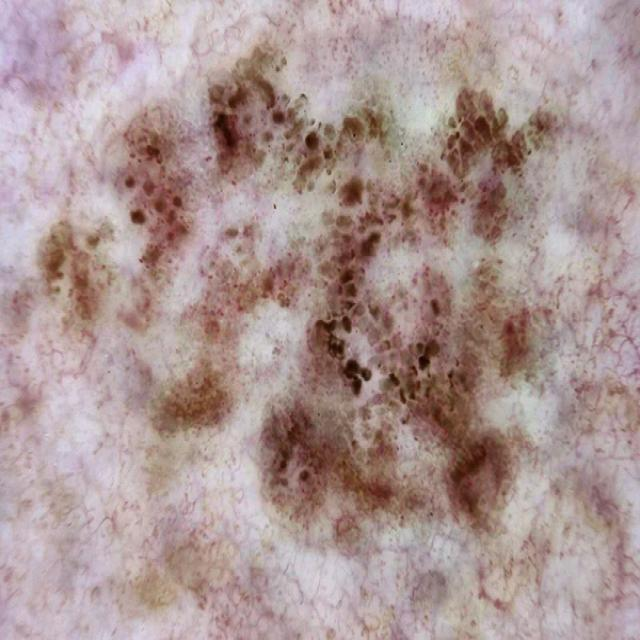Benign-Keratosis-like-Lesions-BKL-: (37, 46, 571, 578)
